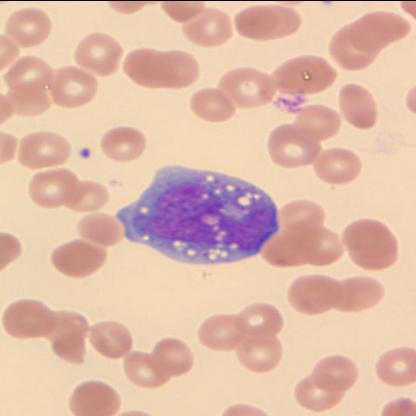Promyelocyte: (113, 164, 276, 264), (114, 166, 119, 178)
